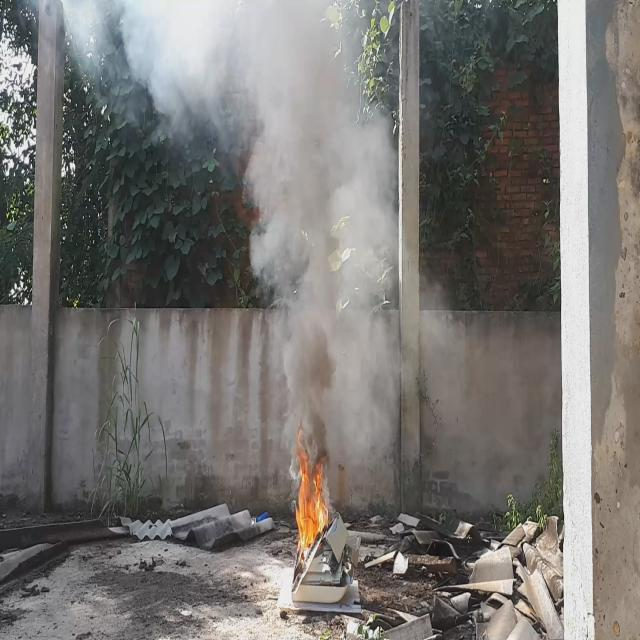Fire: (293, 424, 328, 562)
Smoke: (18, 0, 394, 460)
